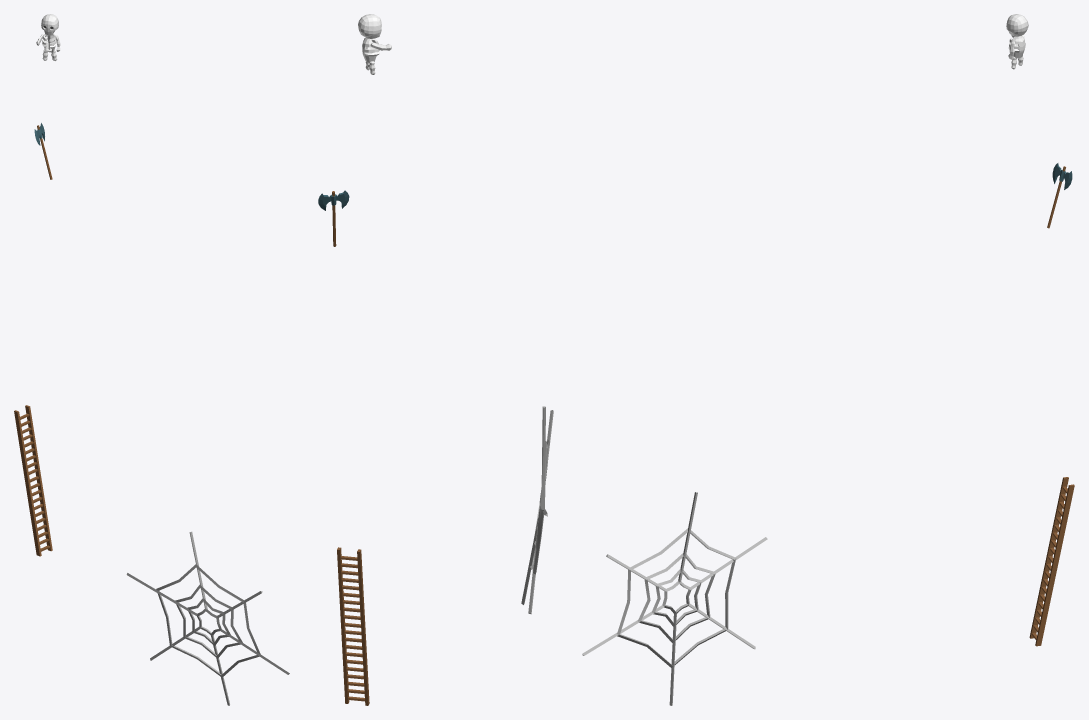
3 views of the same model, side by side, from view 1: azimuth 30°, elevation 25°; view 2: azimuth 150°, elevation 25°; view 3: azimuth 270°, elevation 25° (orthographic). The views are drawn at different scales.
Visible parts, largest first — view 1: Line1348_grey_0, Box437_brown_0; view 2: Box437_brown_0, Line1348_grey_0, Head126_white_0; view 3: Line1348_grey_0, Box437_brown_0.
Part boxes in pixels (x1,y1,x2,y2): Line1348_grey_0: [126, 531, 289, 705]; Box437_brown_0: [14, 405, 52, 556]; Box437_brown_0: [337, 547, 369, 705]; Line1348_grey_0: [521, 406, 553, 614]; Head126_white_0: [358, 14, 381, 38]; Line1348_grey_0: [582, 492, 767, 705]; Box437_brown_0: [1029, 477, 1074, 646].
Bounding box in the file's own units: 325 × 2172 × 1437.
